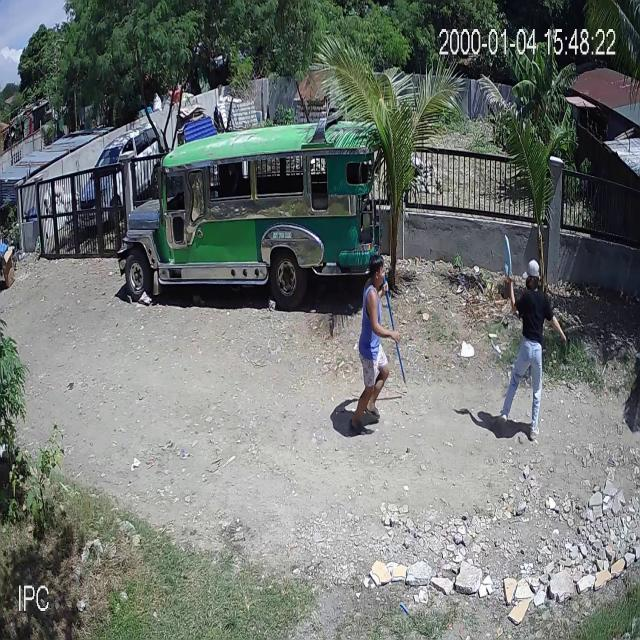running: (495, 235, 567, 440), (347, 260, 405, 433)
